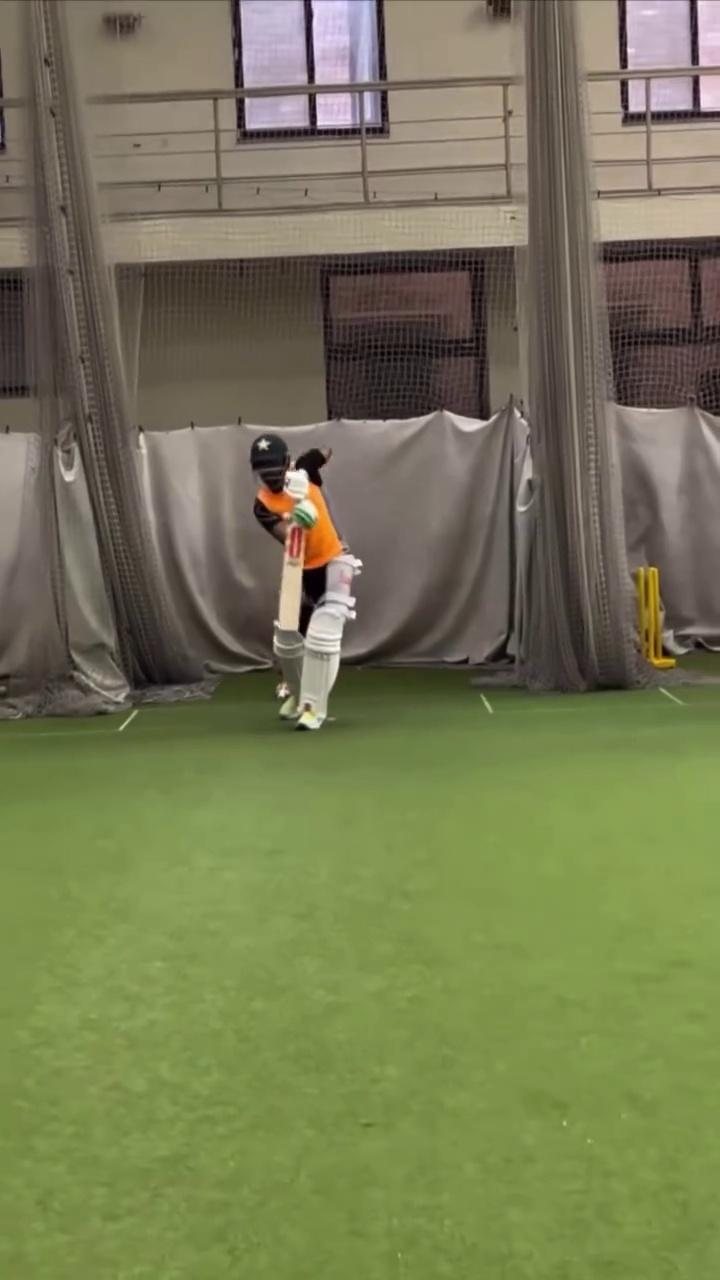bat: (278, 525, 307, 631)
